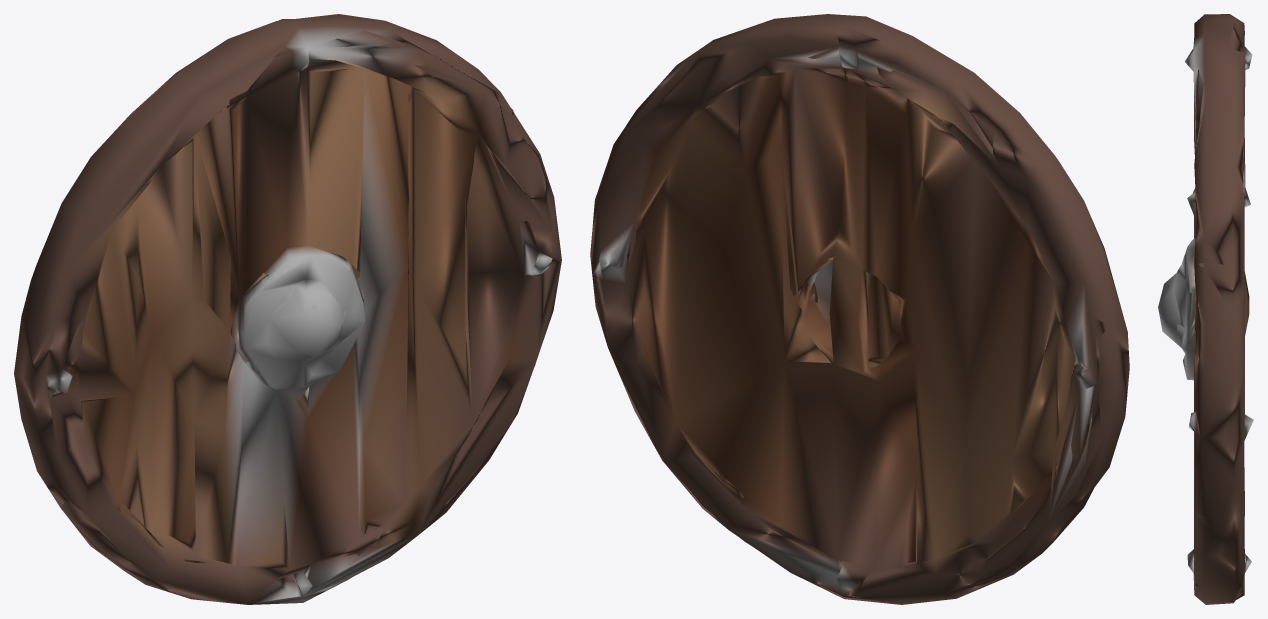
Rendered from gen3d-round-shield-lod1.glb.
3 renders of one model, left to right at view 1: azimuth 30°, elevation 25°; view 2: azimuth 150°, elevation 25°; view 3: azimuth 270°, elevation 25°, orthographic. The views are drawn at different scales.
Visible parts, largest first — view 1: part_0; view 2: part_0; view 3: part_0.
Boxes of the visible parts, x1=… form: part_0: x1=14, y1=14, x2=561, y2=604; part_0: x1=590, y1=14, x2=1129, y2=604; part_0: x1=1158, y1=14, x2=1253, y2=604.
Bounding box in the file's own units: 0.9589 × 0.9961 × 0.1579.
